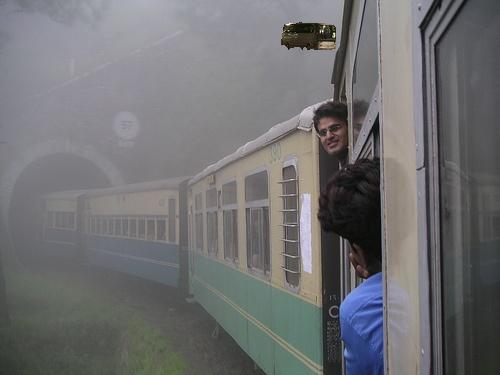tampered: (282, 23, 336, 50)
